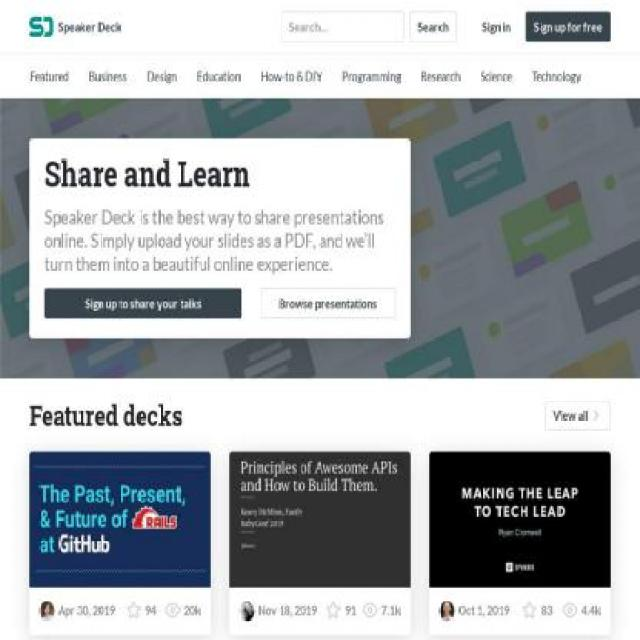button: (29, 452, 211, 634), (229, 452, 411, 634), (429, 452, 611, 634), (44, 288, 242, 318), (260, 288, 395, 318), (526, 12, 611, 42), (545, 400, 610, 431), (29, 17, 122, 37), (477, 15, 515, 39)
field: (280, 12, 405, 42), (409, 12, 457, 42)
